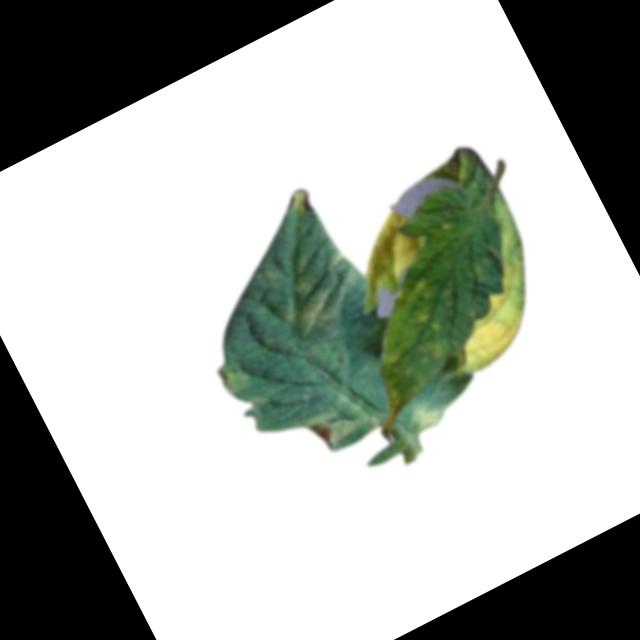Leaf_Mold: (349, 286, 463, 412), (430, 260, 550, 377), (347, 206, 433, 298), (276, 276, 342, 340), (303, 396, 365, 458), (211, 353, 255, 399), (405, 396, 445, 437)
